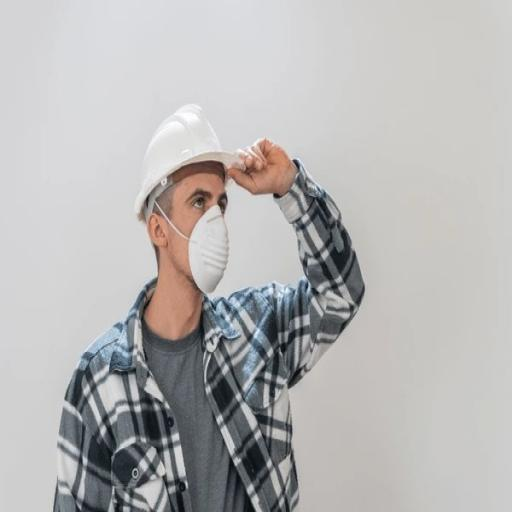mask: (185, 205, 236, 299)
